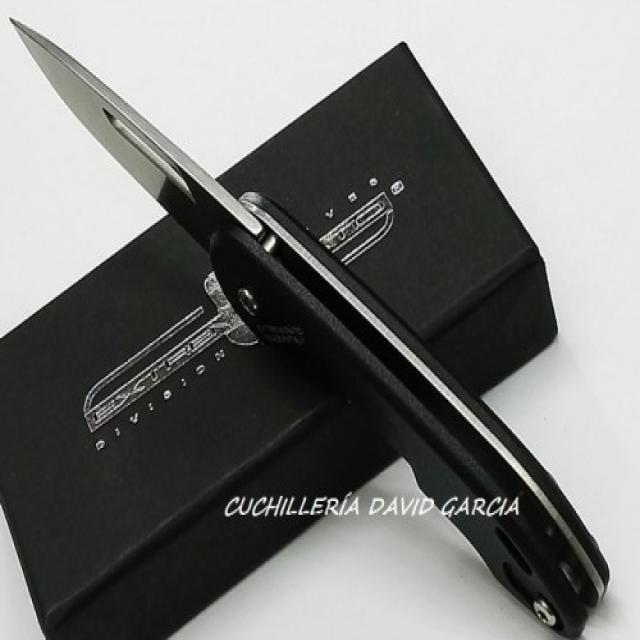knife: (6, 8, 618, 640)
